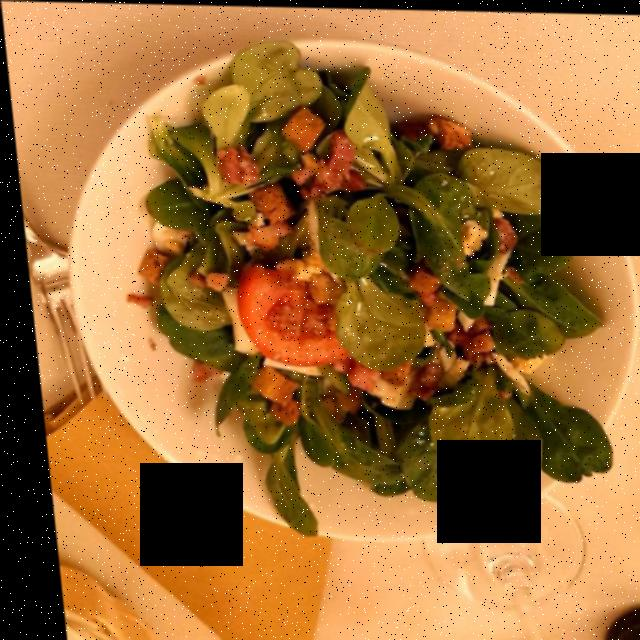bacon-cooking: (146, 37, 605, 534)
croutons: (143, 37, 599, 544)
salad-lambs-ear: (142, 42, 594, 500)
tomato-raw: (142, 32, 612, 529)
